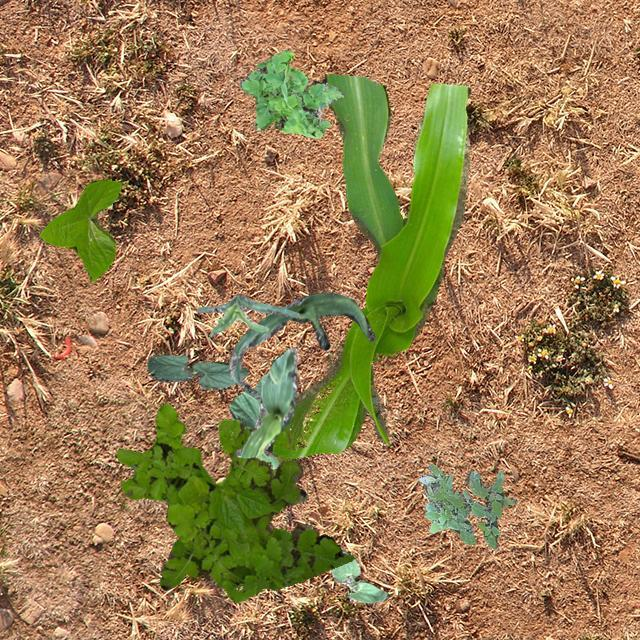crop: (264, 72, 470, 458), (228, 292, 374, 398), (38, 178, 120, 280), (234, 346, 296, 456), (228, 372, 278, 468), (195, 292, 298, 336), (268, 391, 318, 476), (146, 354, 248, 388), (330, 558, 388, 602)
weed: (114, 402, 354, 602), (238, 49, 342, 138), (416, 462, 516, 548)
